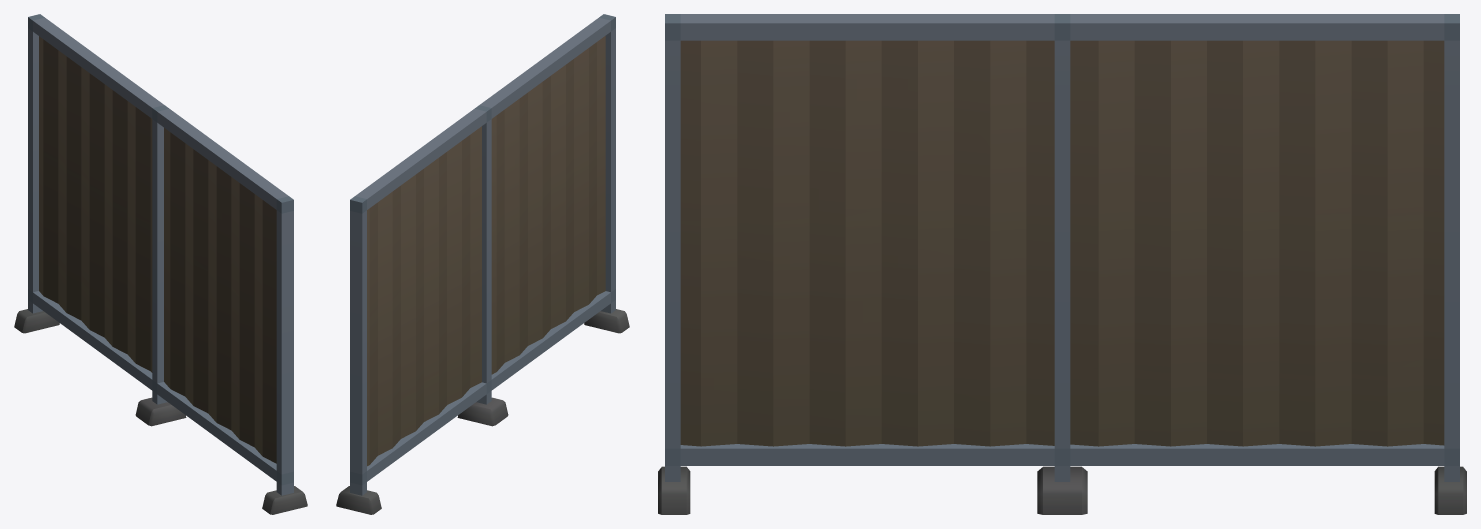
Rendered from Barier_1_2.glb.
The picture shows the model from 3 angles, left to right: view 1: azimuth 30°, elevation 25°; view 2: azimuth 150°, elevation 25°; view 3: azimuth 270°, elevation 25°; orthographic projection. The views are drawn at different scales.
Parts seen in each view (by area): view 1: Barier_1_2; view 2: Barier_1_2; view 3: Barier_1_2.
Part boxes in pixels (x1=…): Barier_1_2: x1=14, y1=14, x2=307, y2=514; Barier_1_2: x1=336, y1=14, x2=629, y2=514; Barier_1_2: x1=658, y1=14, x2=1466, y2=514.
Bounding box in the file's own units: 0.3435 × 2.68 × 4.07.
Materials: 2 (2 with a texture image).
